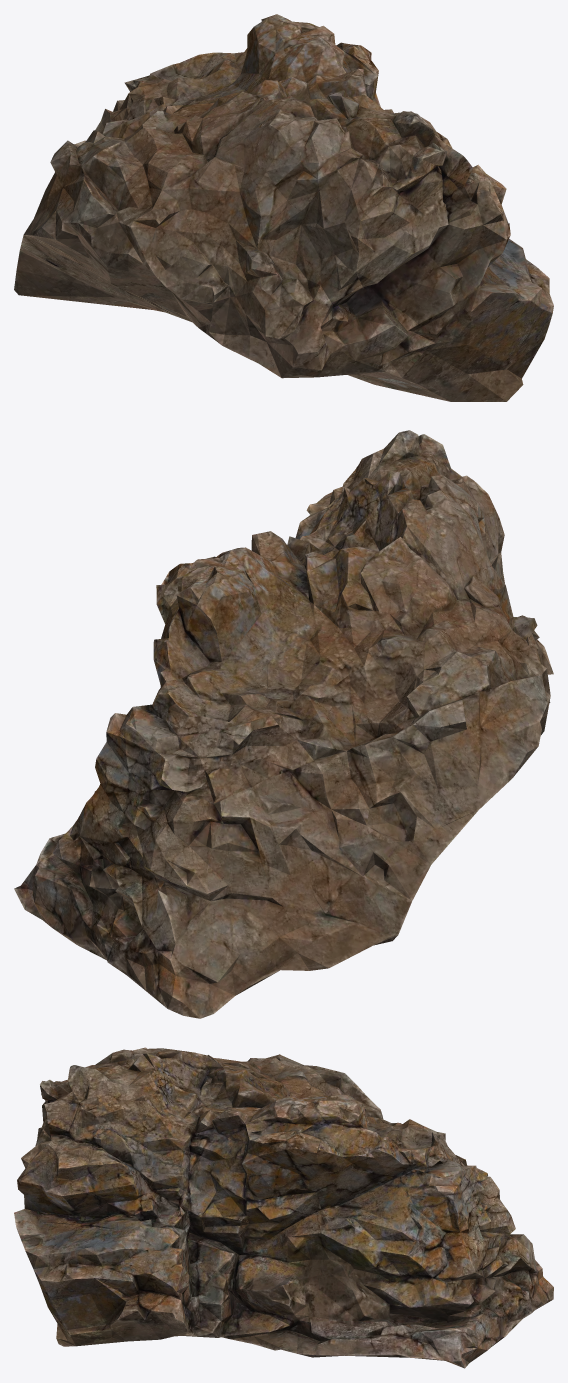
The model's file is boulder_01.glb.
3 views of the same model, one above another, from view 1: azimuth 30°, elevation 25°; view 2: azimuth 150°, elevation 25°; view 3: azimuth 270°, elevation 25° (orthographic). The views are drawn at different scales.
Parts seen in each view (by area): view 1: boulder_01; view 2: boulder_01; view 3: boulder_01.
Part boxes in pixels (x1,y1,x2,y2): boulder_01: (14,14,553,401); boulder_01: (14,430,553,1018); boulder_01: (14,1047,553,1368).
Bounding box in the file's own units: 1.27 × 1 × 1.82.
1 material, 1 textured.
